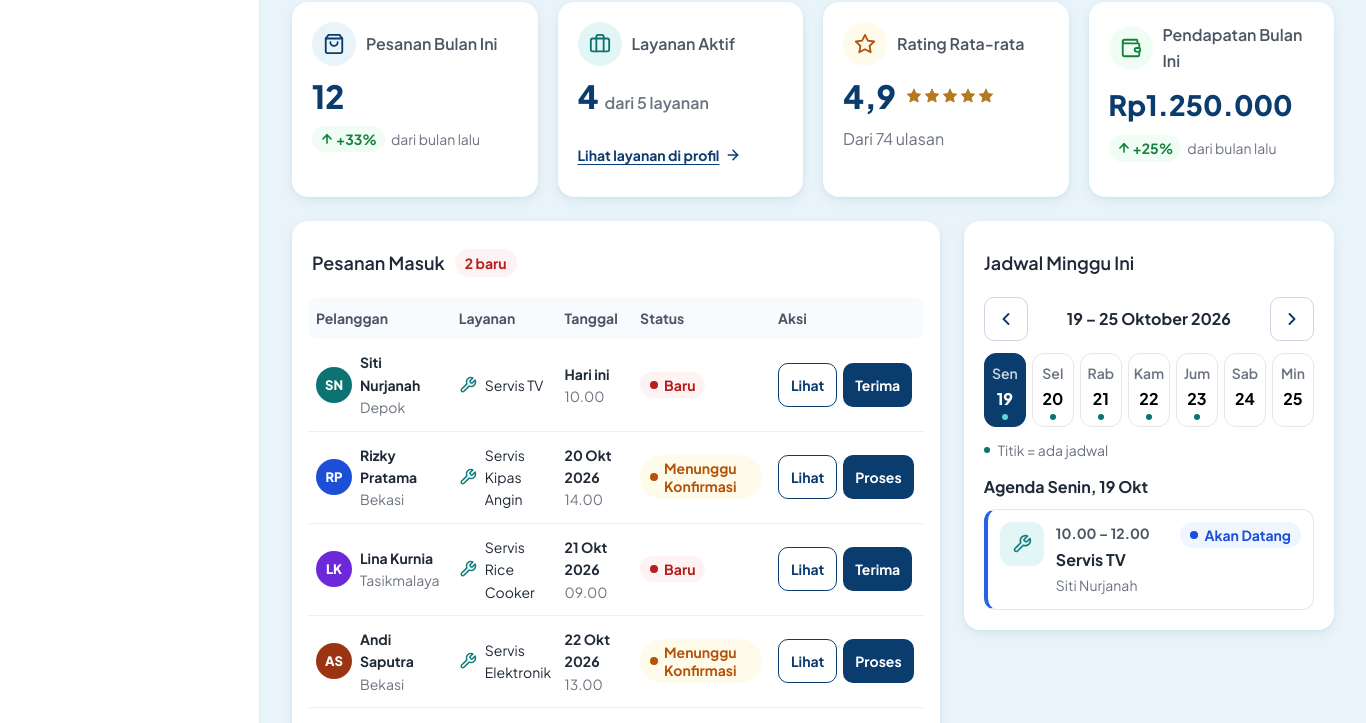
Scenario: Dashboard Penyedia › menerima pesanan baru dan menampilkan detail pesanan
The width and height of the screenshot is (1366, 723).
(page scrolled)
Click the button with aria-label "Terima pesanan Siti Nurjanah" at coordinates (878, 385), box [843,363,912,407]
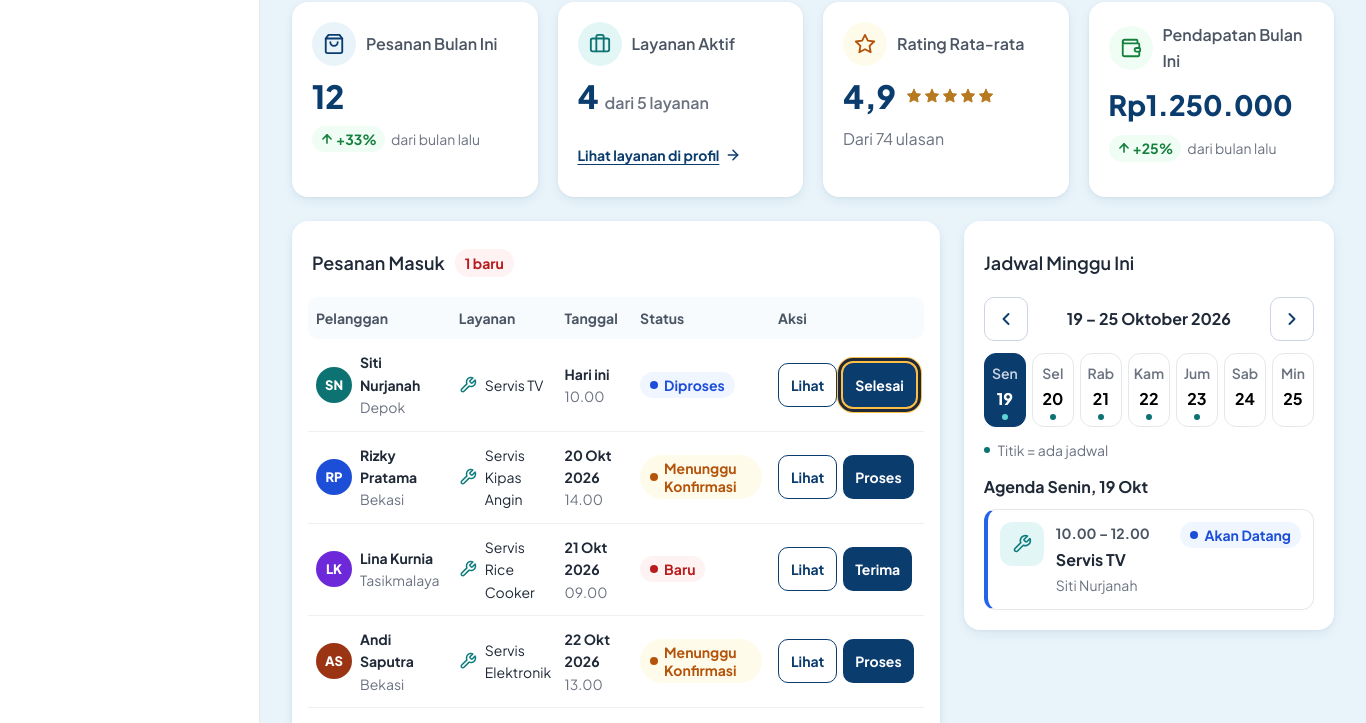
Expected: the button with aria-label "Selesai pesanan Siti Nurjanah" is shown, [843,363,916,407]
Click the button with aria-label "Lihat pesanan Siti Nurjanah" at coordinates (808, 385), box [778,363,837,407]
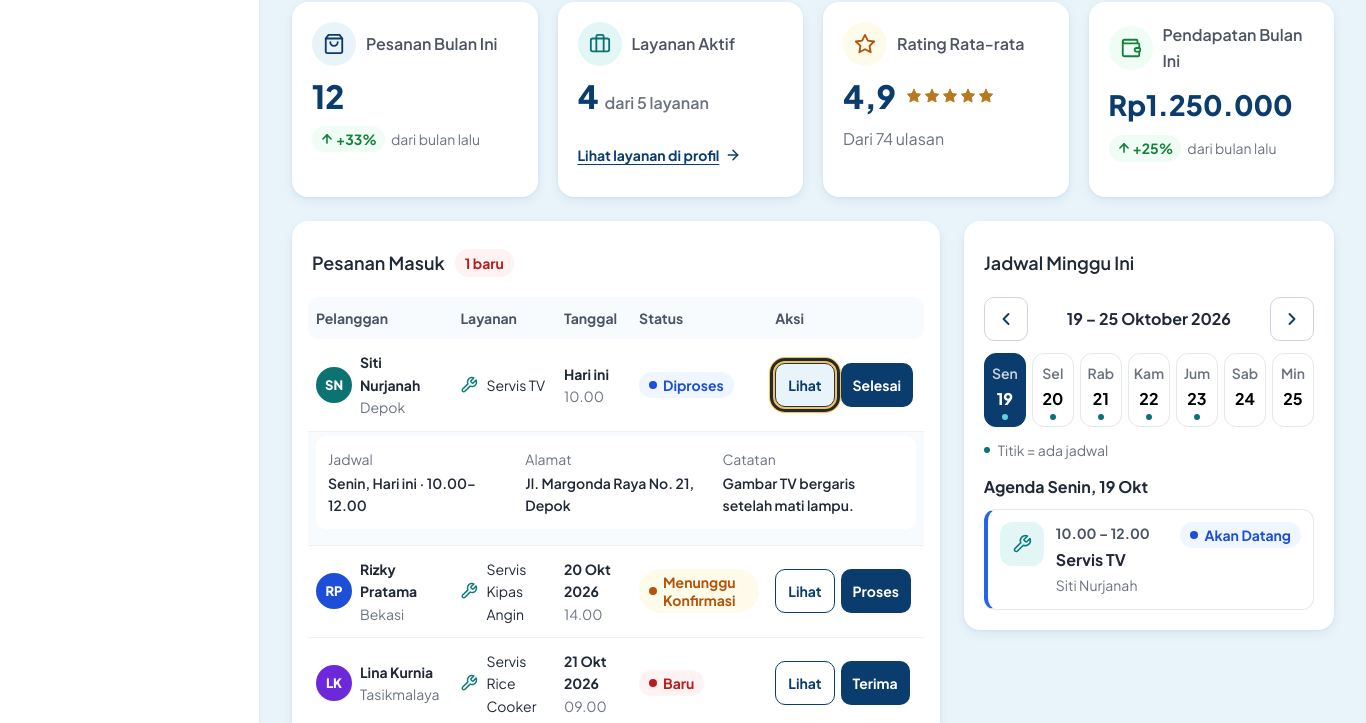
Expected: the button with aria-label "Lihat pesanan Siti Nurjanah" is expanded, [775,363,834,407]
Expected: the text "Jl. Margonda Raya No. 21, Depok" is shown, [525,472,707,517]
